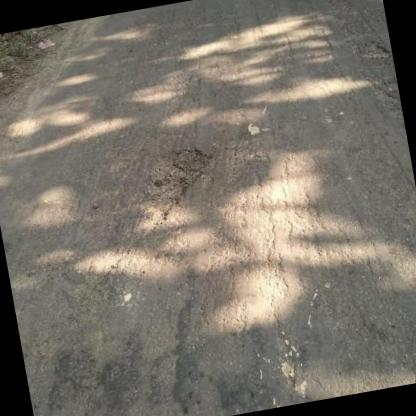pothole: (136, 140, 224, 232), (356, 36, 392, 64)
